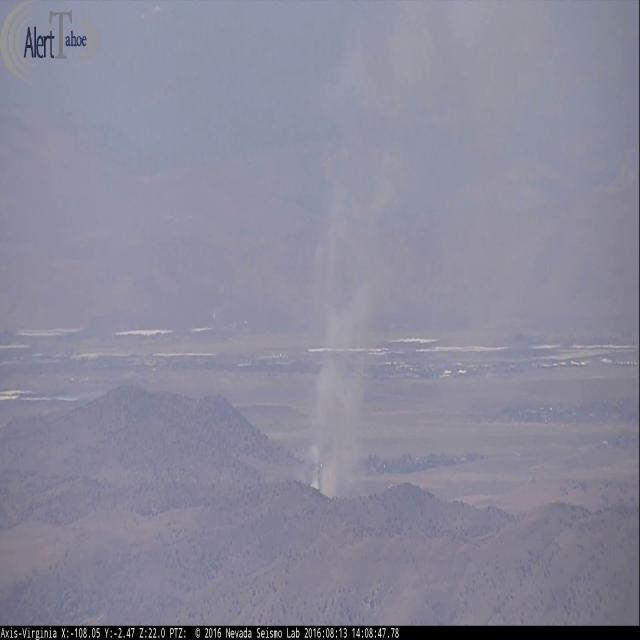smoke: (300, 0, 403, 500), (404, 3, 556, 151)
